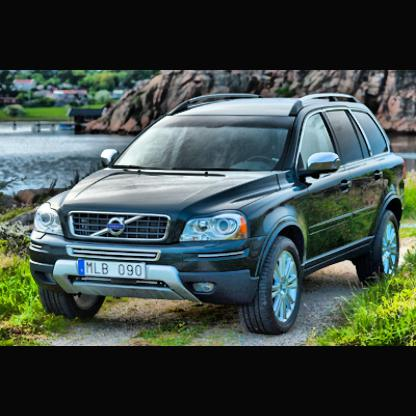Volvo XC90 SUV 2007: (32, 94, 406, 336)
